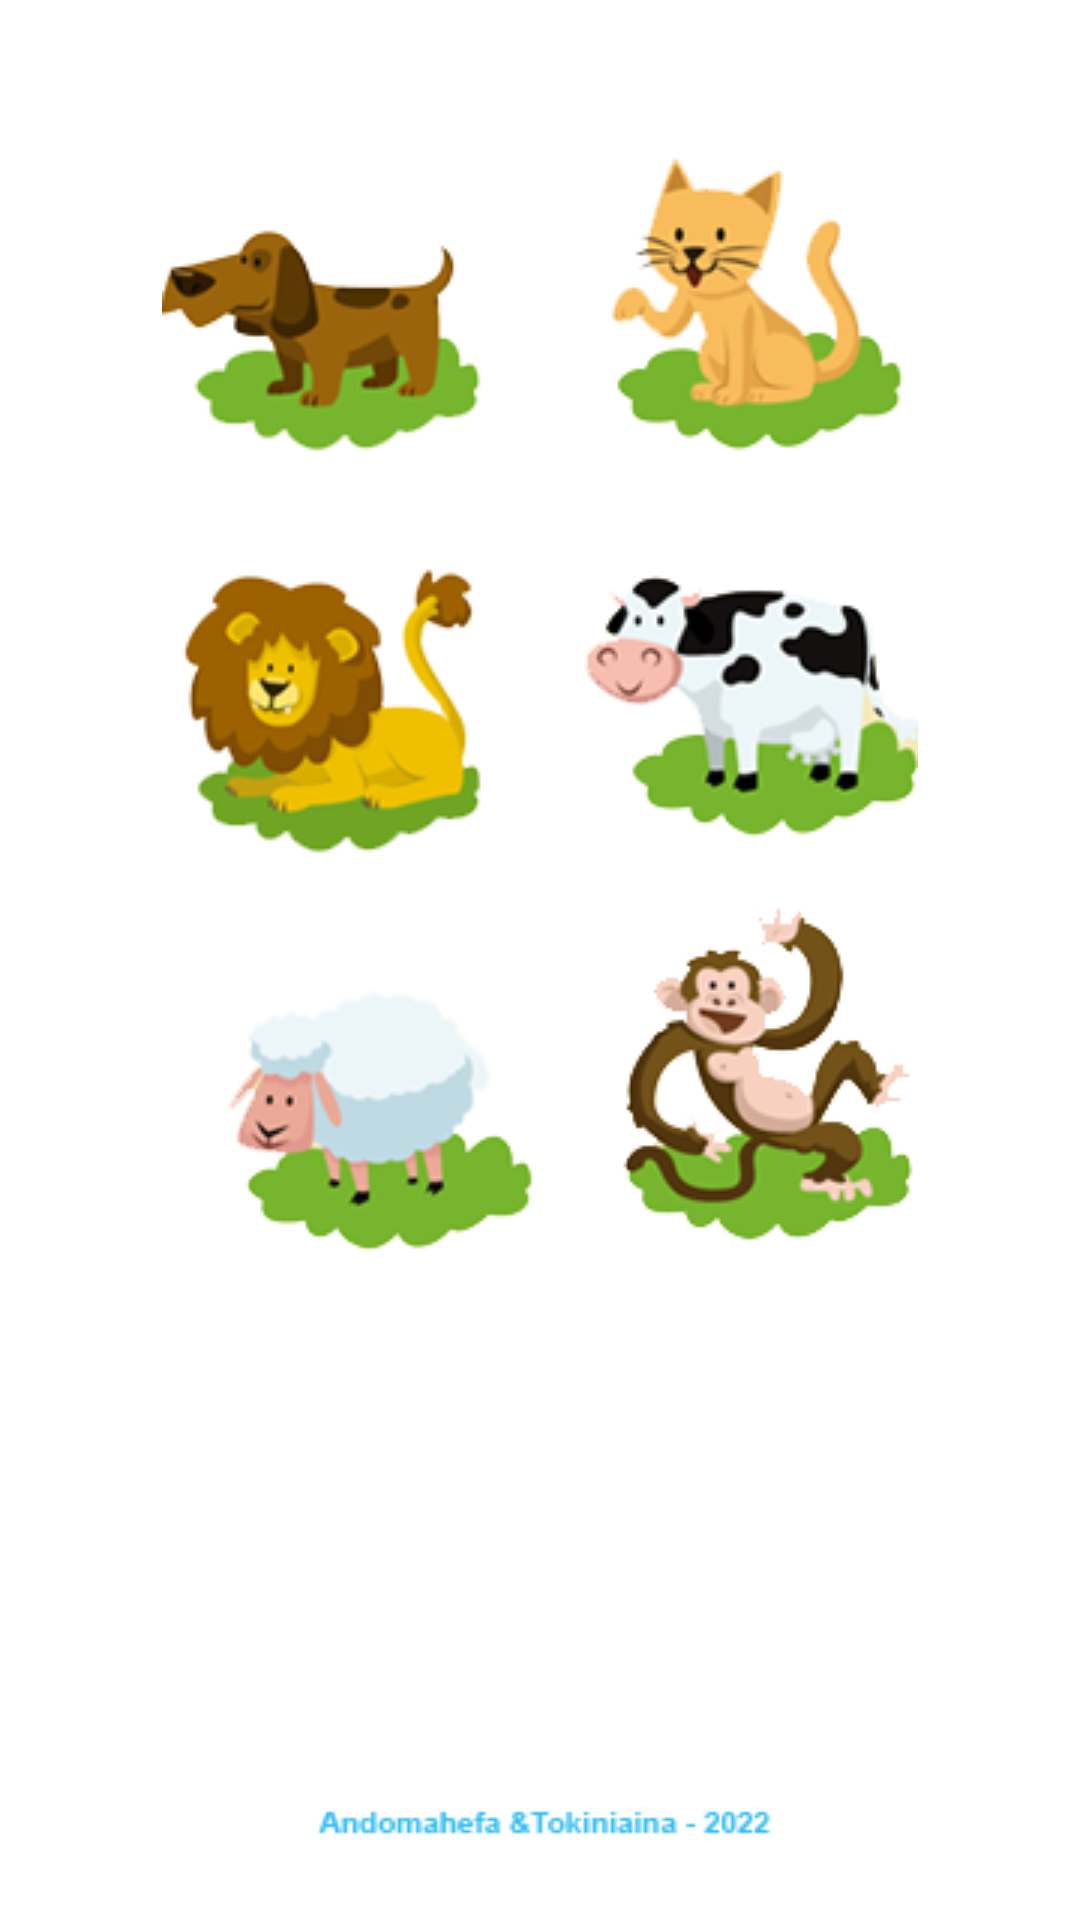

Named icons in this screenshot (1080px×1920px) and their centers, [x,y]:
cat: [757,304]
cow: [752,706]
dog: [321,340]
lion: [332,711]
monkey: [768,1074]
sheep: [381,1144]
